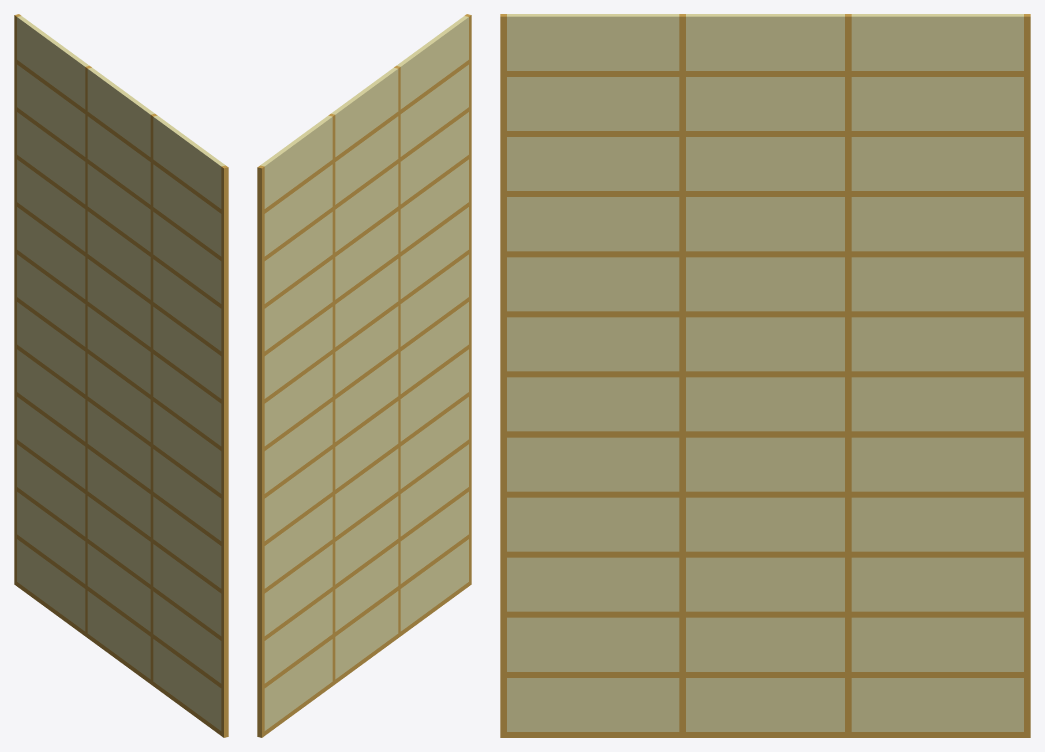
File: dojo_panel_001.obj
3 views of the same model, side by side, from view 1: azimuth 30°, elevation 25°; view 2: azimuth 150°, elevation 25°; view 3: azimuth 270°, elevation 25° (orthographic). The views are drawn at different scales.
Size of the model in its own units: 0.1 by 12 by 8.
Materials: 1 (1 with a texture image).
